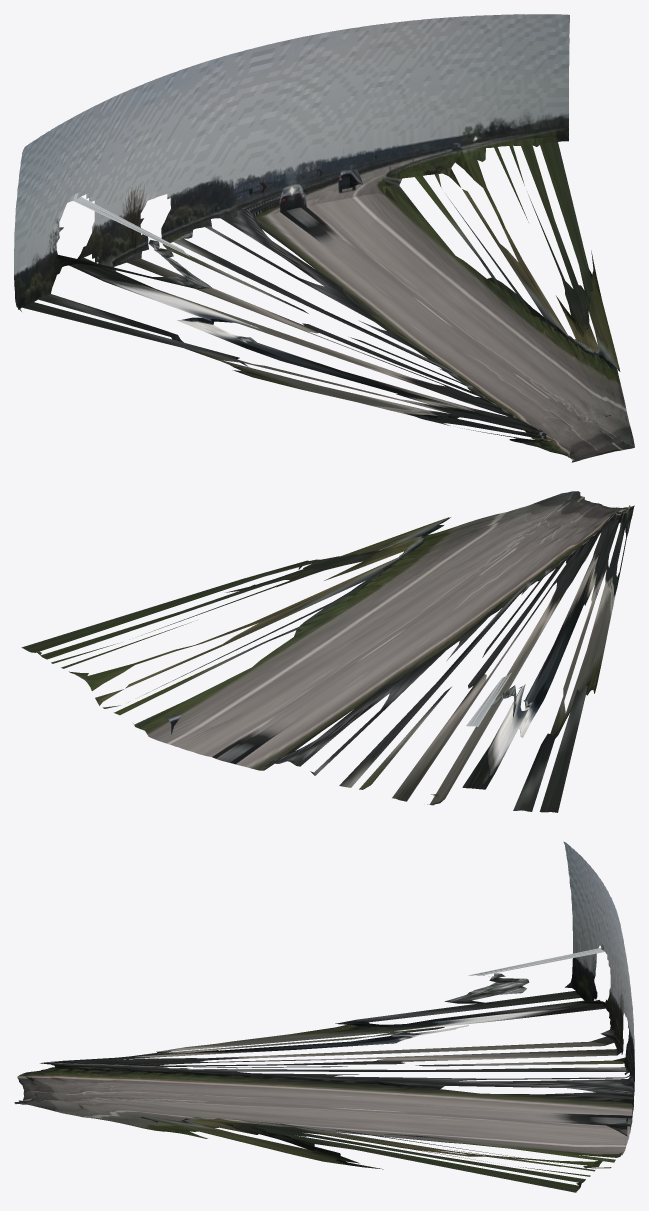
3 renders of one model, top to bottom at view 1: azimuth 30°, elevation 25°; view 2: azimuth 150°, elevation 25°; view 3: azimuth 270°, elevation 25°, orthographic. The views are drawn at different scales.
Parts seen in each view (by area): view 1: defaultobject; view 2: defaultobject; view 3: defaultobject.
Boxes of the visible parts, x1,y1,x2,y2 form: defaultobject: (14, 14, 634, 462); defaultobject: (21, 491, 634, 812); defaultobject: (14, 841, 634, 1192).
Bounding box in the file's own units: 41.16 × 13.07 × 44.87.
Materials: 1 (1 with a texture image).
